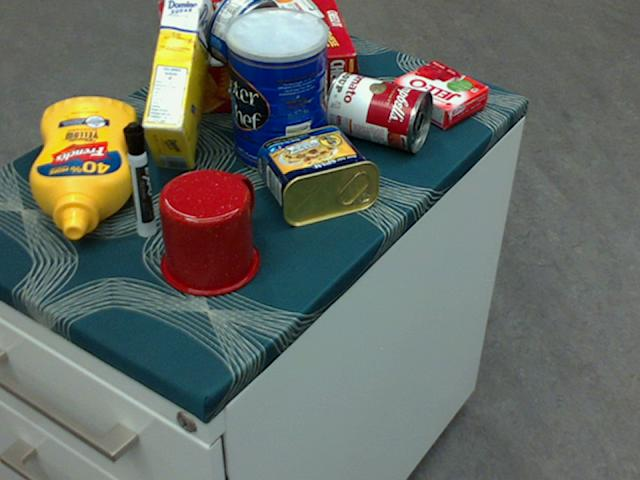cracker_box: (159, 0, 355, 116)
gelatin_box: (390, 61, 488, 127)
large_marker: (121, 122, 156, 235)
master_chef_can: (224, 6, 328, 174)
mug: (158, 167, 260, 295)
mustard_bottle: (29, 97, 136, 238)
potted_meat_can: (256, 122, 379, 227)
sugar_box: (142, 0, 215, 170)
tomato_soup_can: (324, 71, 433, 151)
tuna_fish_can: (206, 0, 281, 70)
